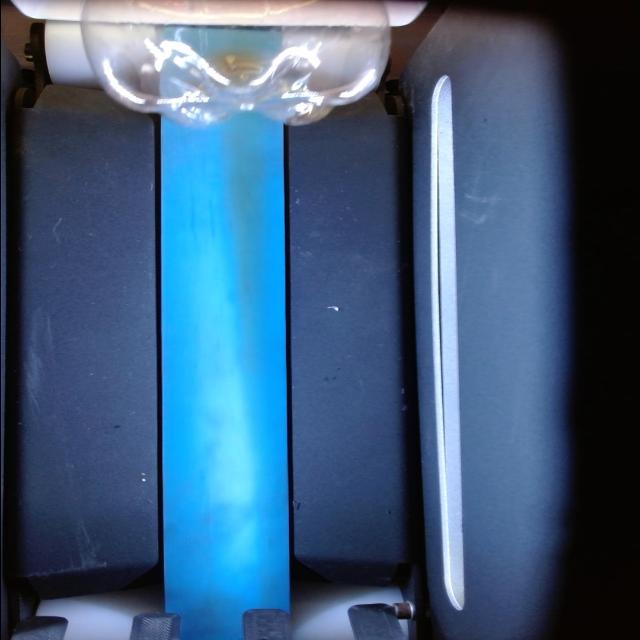bottom: (74, 27, 405, 129)
